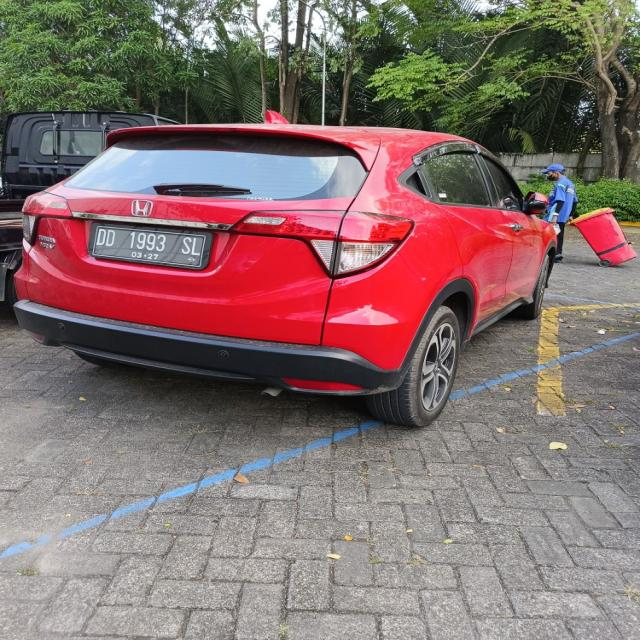plates: (79, 218, 215, 270)
